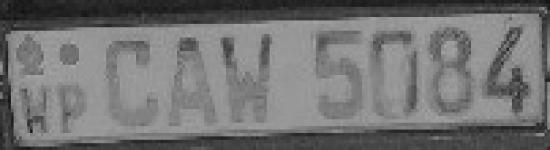0: (370, 21, 421, 125)
4: (477, 19, 533, 119)
5: (305, 24, 368, 122)
8: (424, 21, 477, 120)
A: (164, 32, 221, 129)
C: (97, 32, 165, 130)
P: (56, 74, 89, 136)
W: (219, 28, 281, 130), (16, 81, 53, 141)
